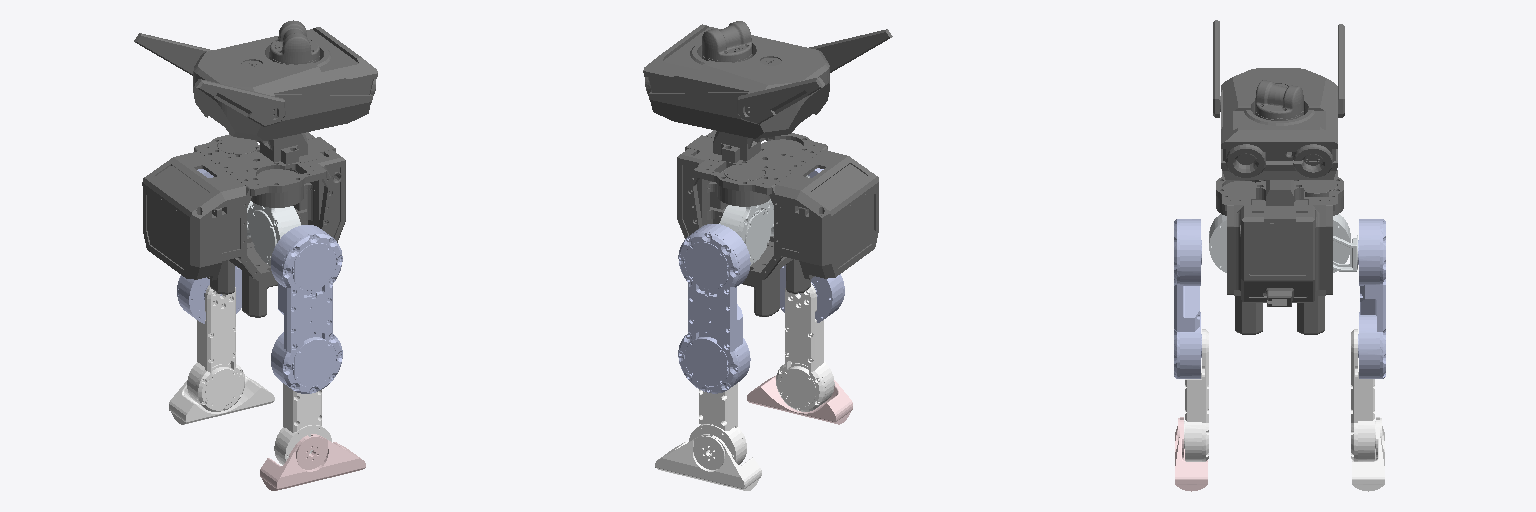
URDF robot description (TinkerV2_URDF):
<?xml version="1.0" encoding="utf-8"?>
<!-- This URDF was automatically created by SolidWorks to URDF Exporter! Originally created by [author] ([email redacted]) 
     Commit Version: 1.6.0-4-g7f85cfe  Build Version: 1.6.7995.38578
     For more information, please see http://wiki.ros.org/sw_urdf_exporter -->
<robot
  name="TinkerV2_URDF">
  <mujoco>
    <compiler
    	meshdir="../meshes/"
    	balanceinertia="true"
    	discardvisual="false" />
  </mujoco>
  <link
    name="base_link">
    <inertial>
      <origin
        xyz="0.0178944337663744 -0.00093463306868289 0.0748331810523643"
        rpy="0 0 0" />
      <mass
        value="4.57774138134717" />
      <inertia
        ixx="0.00997619620537727"
        ixy="0.000185736594245151"
        ixz="0.000239165385045545"
        iyy="0.0101647602057067"
        iyz="-3.82891709036051E-05"
        izz="0.0134835743703498" />
    </inertial>
    <visual>
      <origin
        xyz="0 0 0"
        rpy="0 0 0" />
      <geometry>
        <mesh
          filename="../meshes/base_link.STL" />
      </geometry>
      <material
        name="">
        <color
          rgba="0.501960784313725 0.501960784313725 0.501960784313725 1" />
      </material>
    </visual>
    <collision>
      <origin
        xyz="0 0 0"
        rpy="0 0 0" />
      <geometry>
        <mesh
          filename="../meshes/base_link.STL" />
      </geometry>
    </collision>
  </link>
  <link
    name="L0_Link">
    <inertial>
      <origin
        xyz="0.000619769205169471 4.28151604508764E-05 -0.0528764094726772"
        rpy="0 0 0" />
      <mass
        value="0.58733124626329" />
      <inertia
        ixx="0.000679574527171378"
        ixy="6.35939752198051E-07"
        ixz="-2.0060892817643E-06"
        iyy="0.000388521985922983"
        iyz="7.1926569574311E-08"
        izz="0.000394111295800482" />
    </inertial>
    <visual>
      <origin
        xyz="0 0 0"
        rpy="0 0 0" />
      <geometry>
        <mesh
          filename="../meshes/L0_Link.STL" />
      </geometry>
      <material
        name="">
        <color
          rgba="0.898039215686275 0.917647058823529 0.929411764705882 1" />
      </material>
    </visual>
    <collision>
      <origin
        xyz="0 0 0"
        rpy="0 0 0" />
      <geometry>
        <mesh
          filename="../meshes/L0_Link.STL" />
      </geometry>
    </collision>
  </link>
  <joint
    name="J_L0"
    type="revolute">
    <origin
      xyz="-0.00278702337361966 0.0535421210696406 0.0543809168420918"
      rpy="0 0 0" />
    <parent
      link="base_link" />
    <child
      link="L0_Link" />
    <axis
      xyz="0 0 1" />
    <limit
      lower="-0.7"
      upper="0.7"
      effort="12"
      velocity="20" />
  </joint>
  <link
    name="L1_Link">
    <inertial>
      <origin
        xyz="-0.00347151881152866 0.0341575846694437 -0.00920419492600857"
        rpy="0 0 0" />
      <mass
        value="0.0295520918102822" />
      <inertia
        ixx="2.01156400754398E-05"
        ixy="2.92602730787641E-06"
        ixz="-7.5728068391138E-07"
        iyy="9.0972120672696E-06"
        iyz="3.46756313666971E-06"
        izz="1.70589627206504E-05" />
    </inertial>
    <visual>
      <origin
        xyz="0 0 0"
        rpy="0 0 0" />
      <geometry>
        <mesh
          filename="../meshes/L1_Link.STL" />
      </geometry>
      <material
        name="">
        <color
          rgba="0.898039215686275 0.917647058823529 0.929411764705882 1" />
      </material>
    </visual>
    <collision>
      <origin
        xyz="0 0 0"
        rpy="0 0 0" />
      <geometry>
        <mesh
          filename="../meshes/L1_Link.STL" />
      </geometry>
    </collision>
  </link>
  <joint
    name="J_L1"
    type="revolute">
    <origin
      xyz="0.0169583087519197 0 -0.0539165400466407"
      rpy="0 0 0" />
    <parent
      link="L0_Link" />
    <child
      link="L1_Link" />
    <axis
      xyz="-1 0 0" />
    <limit
      lower="-0.38"
      upper="0.46"
      effort="20"
      velocity="20" />
  </joint>
  <link
    name="L2_Link">
    <inertial>
      <origin
        xyz="-0.000792135254140541 0.0178195414064007 -0.0737981945599542"
        rpy="0 0 0" />
      <mass
        value="1.34863079294358" />
      <inertia
        ixx="0.00129423620859394"
        ixy="-1.85263110266146E-07"
        ixz="-1.27422385452911E-05"
        iyy="0.00198392551017764"
        iyz="-1.28973793205041E-06"
        izz="0.000901841491075365" />
    </inertial>
    <visual>
      <origin
        xyz="0 0 0"
        rpy="0 0 0" />
      <geometry>
        <mesh
          filename="../meshes/L2_Link.STL" />
      </geometry>
      <material
        name="">
        <color
          rgba="0.792156862745098 0.819607843137255 0.933333333333333 1" />
      </material>
    </visual>
    <collision>
      <origin
        xyz="0 0 0"
        rpy="0 0 0" />
      <geometry>
        <mesh
          filename="../meshes/L2_Link.STL" />
      </geometry>
    </collision>
  </link>
  <joint
    name="J_L2"
    type="revolute">
    <origin
      xyz="-0.0129583087519198 0.0590007505314893 -0.0143127727180286"
      rpy="0 0 0" />
    <parent
      link="L1_Link" />
    <child
      link="L2_Link" />
    <axis
      xyz="0 1 0" />
    <limit
      lower="-1.57"
      upper="1.57"
      effort="20"
      velocity="20" />
  </joint>
  <link
    name="L3_Link">
    <inertial>
      <origin
        xyz="1.3565592151224E-05 0.00733283731110598 -0.117529876985569"
        rpy="0 0 0" />
      <mass
        value="0.511662162049908" />
      <inertia
        ixx="0.000485296554432504"
        ixy="-1.71679126634948E-09"
        ixz="-2.42680527573449E-08"
        iyy="0.000609653926510502"
        iyz="5.58458565392703E-07"
        izz="0.000168053591623036" />
    </inertial>
    <visual>
      <origin
        xyz="0 0 0"
        rpy="0 0 0" />
      <geometry>
        <mesh
          filename="../meshes/L3_Link.STL" />
      </geometry>
      <material
        name="">
        <color
          rgba="1 1 1 1" />
      </material>
    </visual>
    <collision>
      <origin
        xyz="0 0 0"
        rpy="0 0 0" />
      <geometry>
        <mesh
          filename="../meshes/L3_Link.STL" />
      </geometry>
    </collision>
  </link>
  <joint
    name="J_L3"
    type="revolute">
    <origin
      xyz="0 0 -0.147377804213192"
      rpy="0 0 0" />
    <parent
      link="L2_Link" />
    <child
      link="L3_Link" />
    <axis
      xyz="0 1 0" />
    <limit
      lower="-2.35"
      upper="0"
      effort="20"
      velocity="20" />
  </joint>
  <link
    name="L4_Link_ankle">
    <inertial>
      <origin
        xyz="0.0117863202636286 -0.00675301796723446 -0.0296425341951533"
        rpy="0 0 0" />
      <mass
        value="0.171742642400329" />
      <inertia
        ixx="4.69796361260103E-05"
        ixy="3.58942527245827E-06"
        ixz="3.63378049236402E-06"
        iyy="0.00031529935173686"
        iyz="-5.96118916541942E-06"
        izz="0.000323352159821171" />
    </inertial>
    <visual>
      <origin
        xyz="0 0 0"
        rpy="0 0 0" />
      <geometry>
        <mesh
          filename="../meshes/L4_Link_ankle.STL" />
      </geometry>
      <material
        name="">
        <color
          rgba="1 1 1 1" />
      </material>
    </visual>
    <collision>
      <origin
        xyz="0 0 0"
        rpy="0 0 0" />
      <geometry>
        <mesh
          filename="../meshes/L4_Link_ankle.STL" />
      </geometry>
    </collision>
  </link>
  <joint
    name="J_L4_ankle"
    type="revolute">
    <origin
      xyz="0 0.025 -0.140491430443831"
      rpy="0 0 0" />
    <parent
      link="L3_Link" />
    <child
      link="L4_Link_ankle" />
    <axis
      xyz="0 -1 0" />
    <limit
      lower="-1.0"
      upper="1.0"
      effort="12"
      velocity="20" />
  </joint>
  <link
    name="R0_Link">
    <inertial>
      <origin
        xyz="0.000619769205169526 -6.07775202541311E-05 -0.0528236124064479"
        rpy="0 0 0" />
      <mass
        value="0.58733124626329" />
      <inertia
        ixx="0.000679574527171378"
        ixy="-6.95389569453526E-07"
        ixz="-1.16326410758144E-06"
        iyy="0.000388521985922983"
        iyz="7.19265695742674E-08"
        izz="0.000394111295800482" />
    </inertial>
    <visual>
      <origin
        xyz="0 0 0"
        rpy="0 0 0" />
      <geometry>
        <mesh
          filename="../meshes/R0_Link.STL" />
      </geometry>
      <material
        name="">
        <color
          rgba="0.898039215686275 0.917647058823529 0.929411764705882 1" />
      </material>
    </visual>
    <collision>
      <origin
        xyz="0 0 0"
        rpy="0 0 0" />
      <geometry>
        <mesh
          filename="../meshes/R0_Link.STL" />
      </geometry>
    </collision>
  </link>
  <joint
    name="J_R0"
    type="revolute">
    <origin
      xyz="-0.00278702337361965 -0.0531841074625105 0.0543809168420918"
      rpy="0 0 0" />
    <parent
      link="base_link" />
    <child
      link="R0_Link" />
    <axis
      xyz="0 0 1" />
    <limit
      lower="-0.7"
      upper="0.7"
      effort="12"
      velocity="20" />
  </joint>
  <link
    name="R1_Link">
    <inertial>
      <origin
        xyz="-0.00347133024262597 -0.0341566777523875 -0.00920405467827518"
        rpy="0 0 0" />
      <mass
        value="0.0295512148321899" />
      <inertia
        ixx="2.01147034015531E-05"
        ixy="-2.92579733230185E-06"
        ixz="-7.57225383653936E-07"
        iyy="9.09689290569061E-06"
        iyz="-3.46737453335564E-06"
        izz="1.70580091817486E-05" />
    </inertial>
    <visual>
      <origin
        xyz="0 0 0"
        rpy="0 0 0" />
      <geometry>
        <mesh
          filename="../meshes/R1_Link.STL" />
      </geometry>
      <material
        name="">
        <color
          rgba="0.898039215686275 0.917647058823529 0.929411764705882 1" />
      </material>
    </visual>
    <collision>
      <origin
        xyz="0 0 0"
        rpy="0 0 0" />
      <geometry>
        <mesh
          filename="../meshes/R1_Link.STL" />
      </geometry>
    </collision>
  </link>
  <joint
    name="J_R1"
    type="revolute">
    <origin
      xyz="0.0169583087519198 0 -0.053916540046641"
      rpy="0 0 0" />
    <parent
      link="R0_Link" />
    <child
      link="R1_Link" />
    <axis
      xyz="-1 0 0" />
    <limit
      lower="-0.38"
      upper="0.47"
      effort="20"
      velocity="20" />
  </joint>
  <link
    name="R2_Link">
    <inertial>
      <origin
        xyz="-0.000791327152038057 -0.017840429336755 -0.0737102344146051"
        rpy="0 0 0" />
      <mass
        value="1.35023879878918" />
      <inertia
        ixx="0.00129479680110982"
        ixy="1.89336231984024E-07"
        ixz="1.35803711649529E-05"
        iyy="0.00198470814459091"
        iyz="-1.19385818429248E-06"
        izz="0.000902063763780103" />
    </inertial>
    <visual>
      <origin
        xyz="0 0 0"
        rpy="0 0 0" />
      <geometry>
        <mesh
          filename="../meshes/R2_Link.STL" />
      </geometry>
      <material
        name="">
        <color
          rgba="0.792156862745098 0.819607843137255 0.933333333333333 1" />
      </material>
    </visual>
    <collision>
      <origin
        xyz="0 0 0"
        rpy="0 0 0" />
      <geometry>
        <mesh
          filename="../meshes/R2_Link.STL" />
      </geometry>
    </collision>
  </link>
  <joint
    name="J_R2"
    type="revolute">
    <origin
      xyz="-0.0129583087519198 -0.0590000000000028 -0.0143127727180283"
      rpy="0 0 0" />
    <parent
      link="R1_Link" />
    <child
      link="R2_Link" />
    <axis
      xyz="0 -1 0" />
    <limit
      lower="-1.57"
      upper="1.57"
      effort="20"
      velocity="-2" />
  </joint>
  <link
    name="R3_Link">
    <inertial>
      <origin
        xyz="2.24016018366552E-05 -0.00733283731110604 -0.117588847907357"
        rpy="0 0 0" />
      <mass
        value="0.511662162049908" />
      <inertia
        ixx="0.000485296554432505"
        ixy="1.48394863970784E-08"
        ixz="2.42680527576866E-08"
        iyy="0.000609653926510502"
        iyz="-4.96193628462751E-07"
        izz="0.000168053591623037" />
    </inertial>
    <visual>
      <origin
        xyz="0 0 0"
        rpy="0 0 0" />
      <geometry>
        <mesh
          filename="../meshes/R3_Link.STL" />
      </geometry>
      <material
        name="">
        <color
          rgba="1 1 1 1" />
      </material>
    </visual>
    <collision>
      <origin
        xyz="0 0 0"
        rpy="0 0 0" />
      <geometry>
        <mesh
          filename="../meshes/R3_Link.STL" />
      </geometry>
    </collision>
  </link>
  <joint
    name="J_R3"
    type="revolute">
    <origin
      xyz="0 0 -0.147377804213191"
      rpy="0 0 0" />
    <parent
      link="R2_Link" />
    <child
      link="R3_Link" />
    <axis
      xyz="0 -1 0" />
    <limit
      lower="-0.0"
      upper="2.35"
      effort="20"
      velocity="20" />
  </joint>
  <link
    name="R4_Link_ankle">
    <inertial>
      <origin
        xyz="0.0117863516971428 0.0067411300754258 -0.029642535317858"
        rpy="0 0 0" />
      <mass
        value="0.171742666232763" />
      <inertia
        ixx="4.69796161317897E-05"
        ixy="-3.58933787419611E-06"
        ixz="3.63376040147767E-06"
        iyy="0.0003152992119871"
        iyz="5.96118703057626E-06"
        izz="0.000323352048617114" />
    </inertial>
    <visual>
      <origin
        xyz="0 0 0"
        rpy="0 0 0" />
      <geometry>
        <mesh
          filename="../meshes/R4_Link_ankle.STL" />
      </geometry>
      <material
        name="">
        <color
          rgba="1 0.905882352941176 0.917647058823529 1" />
      </material>
    </visual>
    <collision>
      <origin
        xyz="0 0 0"
        rpy="0 0 0" />
      <geometry>
        <mesh
          filename="../meshes/R4_Link_ankle.STL" />
      </geometry>
    </collision>
  </link>
  <joint
    name="J_R4_ankle"
    type="revolute">
    <origin
      xyz="0 -0.025 -0.14049"
      rpy="0 0 0" />
    <parent
      link="R3_Link" />
    <child
      link="R4_Link_ankle" />
    <axis
      xyz="0 1 0" />
    <limit
      lower="-1.0"
      upper="1.0"
      effort="12"
      velocity="20" />
  </joint>
</robot>

--- Render facts (derived) ---
Views: 3 orthographic renders of the robot side by side, from view 1: azimuth 30°, elevation 25°; view 2: azimuth 150°, elevation 25°; view 3: azimuth 270°, elevation 25°.
Model TinkerV2_URDF with 11 links and 10 joints (10 revolute), rooted at base_link, posed every joint at zero.
Visible links, largest first — view 1: base_link, R2_Link, L3_Link, R4_Link_ankle, R3_Link, R0_Link, L4_Link_ankle, L2_Link; view 2: base_link, L2_Link, R3_Link, L4_Link_ankle, L3_Link, L0_Link, R4_Link_ankle, R2_Link; view 3: base_link, L2_Link, R2_Link, L3_Link, R3_Link, L4_Link_ankle, R4_Link_ankle, R0_Link, L0_Link, L1_Link.
Link boxes in pixels (x1=…): base_link: x1=134, y1=20, x2=377, y2=317; R2_Link: x1=271, y1=225, x2=342, y2=393; L3_Link: x1=187, y1=285, x2=244, y2=411; R4_Link_ankle: x1=260, y1=434, x2=365, y2=490; R3_Link: x1=274, y1=383, x2=331, y2=464; R0_Link: x1=247, y1=203, x2=300, y2=265; L4_Link_ankle: x1=169, y1=376, x2=274, y2=424; L2_Link: x1=177, y1=169, x2=241, y2=323; base_link: x1=643, y1=21, x2=892, y2=316; L2_Link: x1=678, y1=224, x2=750, y2=393; R3_Link: x1=776, y1=283, x2=834, y2=411; L4_Link_ankle: x1=655, y1=434, x2=761, y2=490; L3_Link: x1=689, y1=383, x2=746, y2=464; L0_Link: x1=720, y1=202, x2=773, y2=265; R4_Link_ankle: x1=747, y1=375, x2=852, y2=424; R2_Link: x1=780, y1=168, x2=844, y2=322; base_link: x1=1213, y1=20, x2=1344, y2=334; L2_Link: x1=1358, y1=219, x2=1385, y2=378; R2_Link: x1=1174, y1=219, x2=1201, y2=378; L3_Link: x1=1351, y1=329, x2=1375, y2=461; R3_Link: x1=1184, y1=329, x2=1208, y2=461; L4_Link_ankle: x1=1352, y1=417, x2=1384, y2=491; R4_Link_ankle: x1=1175, y1=417, x2=1207, y2=491; R0_Link: x1=1209, y1=214, x2=1226, y2=272; L0_Link: x1=1333, y1=214, x2=1350, y2=272; L1_Link: x1=1333, y1=235, x2=1357, y2=271.
Bounding box of the posed robot: 0.3044 × 0.3037 × 0.6355 m (x, y, z).
10 mesh visuals loaded from 11 distinct referenced files (10 binary STL); not drawn: 1 (reference not matched to a file when rendering).
